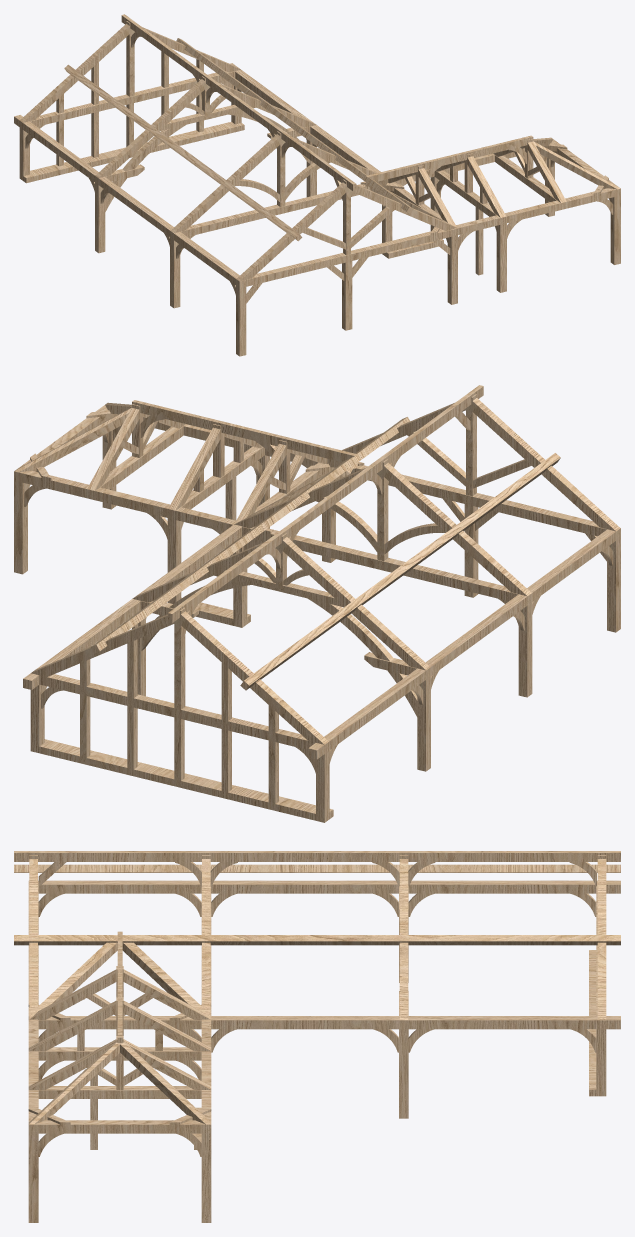
3 views of the same model, one above another, from view 1: azimuth 30°, elevation 25°; view 2: azimuth 150°, elevation 25°; view 3: azimuth 270°, elevation 25° (orthographic). The views are drawn at different scales.
Visible parts, largest first — view 1: Body179, Body177, Body174, Body254, Body253, Body178, Body25, Tie, Tie (1) (1), Body199, Body249, Body170 (+24 smaller); view 2: Body177, Body174, Body25, Body254, Tie, Body178, Body179, Body253, Tie (1) (1), Body180, Body199, Body161 (+38 smaller); view 3: Body177, Body178, Body174, Body253, Body254, Body181, Body182, PR, PR (1), PR (1) (1) (1), PR (1) (1), Body188 (+18 smaller).
Part boxes in pixels (x1=…): Body179: x1=236, y1=188, x2=620, y2=286; Body177: x1=14, y1=115, x2=246, y2=288; Body174: x1=121, y1=14, x2=356, y2=191; Body254: x1=64, y1=64, x2=302, y2=241; Body253: x1=176, y1=38, x2=413, y2=213; Body178: x1=230, y1=63, x2=457, y2=236; Body25: x1=19, y1=121, x2=244, y2=183; Tie: x1=19, y1=70, x2=240, y2=126; Tie (1) (1): x1=170, y1=184, x2=371, y2=236; Body199: x1=366, y1=135, x2=533, y2=181; Body249: x1=236, y1=182, x2=346, y2=281; Body170: x1=170, y1=134, x2=280, y2=232; Body177: x1=308, y1=529, x2=620, y2=759; Body174: x1=168, y1=385, x2=483, y2=623; Body25: x1=30, y1=739, x2=333, y2=822; Body254: x1=240, y1=453, x2=560, y2=690; Tie: x1=39, y1=674, x2=329, y2=749; Body178: x1=23, y1=462, x2=325, y2=689; Body179: x1=143, y1=417, x2=620, y2=536; Body253: x1=91, y1=417, x2=409, y2=653; Tie (1) (1): x1=233, y1=524, x2=532, y2=601; Body180: x1=14, y1=470, x2=235, y2=531; Body199: x1=132, y1=400, x2=357, y2=461; Body161: x1=282, y1=537, x2=430, y2=670; Body177: x1=38, y1=880, x2=620, y2=893; Body178: x1=38, y1=1016, x2=620, y2=1029; Body174: x1=14, y1=851, x2=620, y2=861; Body253: x1=14, y1=935, x2=620, y2=945; Body254: x1=14, y1=864, x2=620, y2=872; Body181: x1=28, y1=1120, x2=211, y2=1133; Body182: x1=29, y1=1086, x2=210, y2=1098; PR: x1=597, y1=859, x2=606, y2=1020; PR (1): x1=399, y1=859, x2=408, y2=1020; PR (1) (1) (1): x1=29, y1=859, x2=37, y2=1020; PR (1) (1): x1=202, y1=859, x2=210, y2=1020; Body188: x1=29, y1=1047, x2=210, y2=1060.
Size of the model in its own units: 11.7 by 4.4 by 12.3.
1 material, 1 textured.
